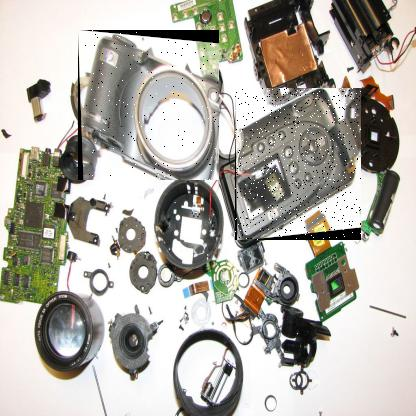Camera: (79, 31, 221, 182), (236, 89, 363, 242)
